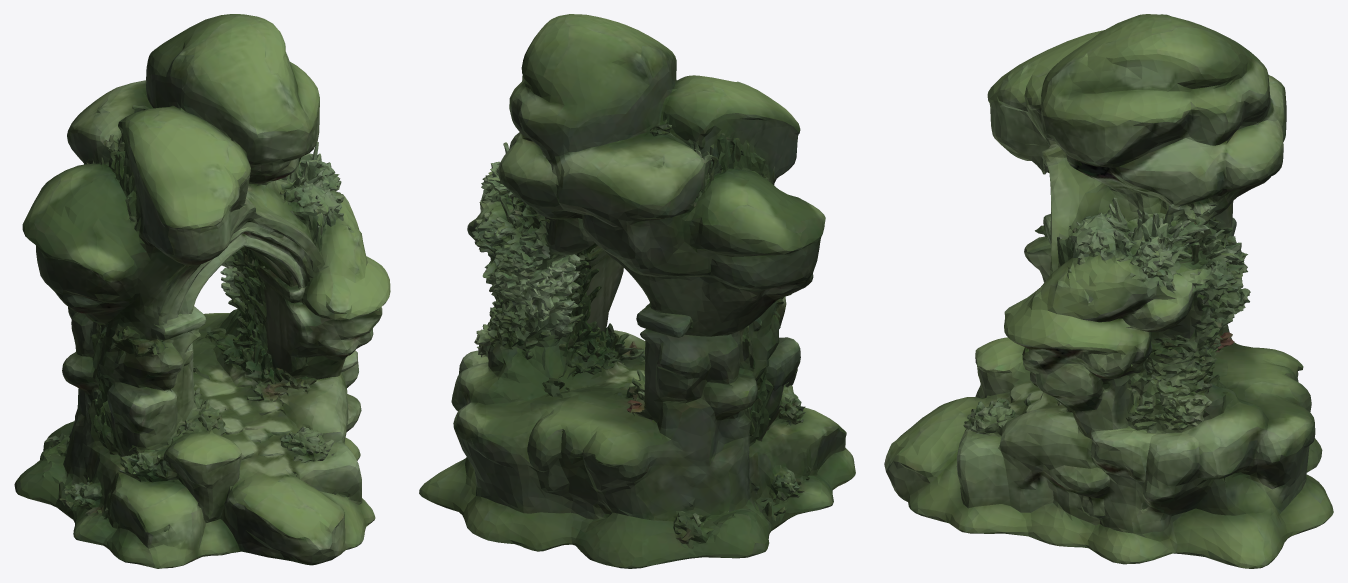
The model's file is bog_rock_cluster_01.glb.
3 renders of one model, left to right at view 1: azimuth 30°, elevation 25°; view 2: azimuth 150°, elevation 25°; view 3: azimuth 270°, elevation 25°, orthographic. The views are drawn at different scales.
Parts seen in each view (by area): view 1: geometry_0; view 2: geometry_0; view 3: geometry_0.
Part boxes in pixels (x1,y1,x2,y2): geometry_0: (14, 14, 390, 568); geometry_0: (419, 14, 855, 568); geometry_0: (884, 14, 1333, 568).
Bounding box in the file's own units: 0.762 × 1 × 0.8376.
1 material, 1 textured.
